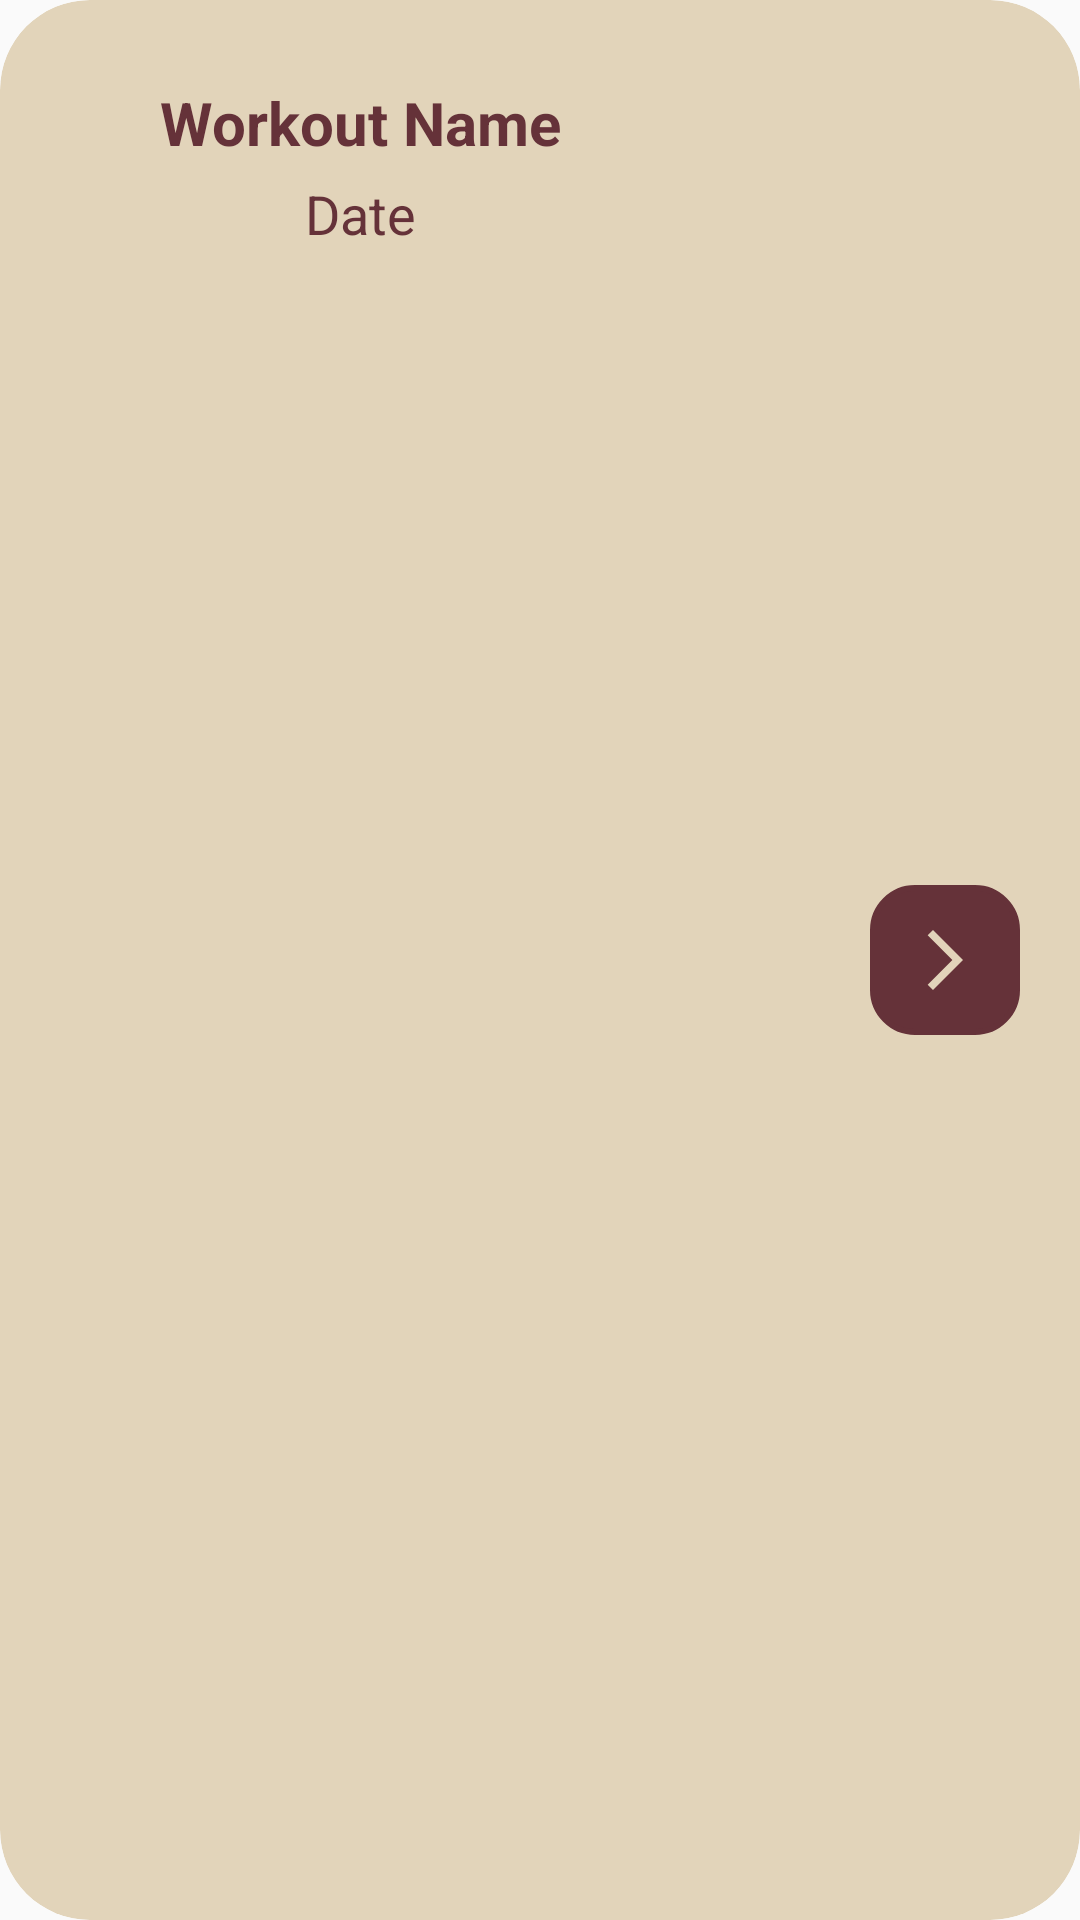

Where icons sit on this 1080px x 1920px app screen, as (x1, y1, x2, y2):
forward: (870, 885, 1020, 1035)
